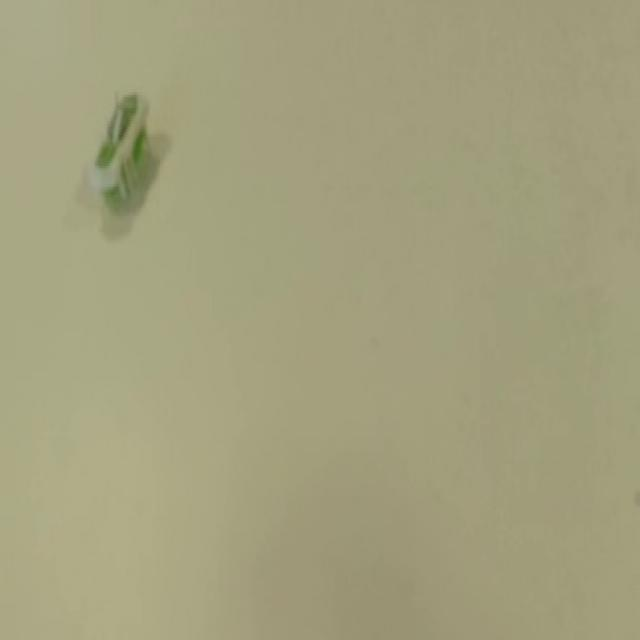4_NanoBug_Blanco: (59, 65, 192, 243)
